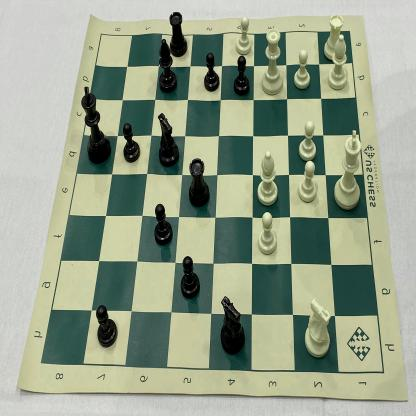black-bishop: (156, 36, 178, 94)
black-king: (79, 80, 113, 168)
black-knight: (217, 289, 246, 357), (154, 107, 181, 171)
black-pawn: (176, 252, 202, 304), (94, 298, 119, 348), (120, 117, 144, 166), (152, 196, 174, 249), (199, 51, 222, 95), (233, 53, 254, 97)
black-rook: (184, 149, 214, 214), (165, 5, 191, 60)
white-bishop: (254, 146, 282, 210), (324, 29, 350, 96)
white-king: (330, 127, 370, 213)
white-knight: (300, 295, 336, 362)
white-pawn: (254, 207, 282, 258), (296, 158, 320, 206), (290, 45, 314, 92), (232, 12, 256, 58), (298, 116, 319, 163)
white-queen: (258, 23, 285, 98)
white-rook: (320, 10, 347, 63)
